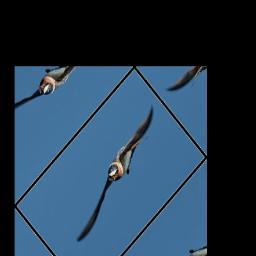Swallow: (54, 103, 174, 244)
